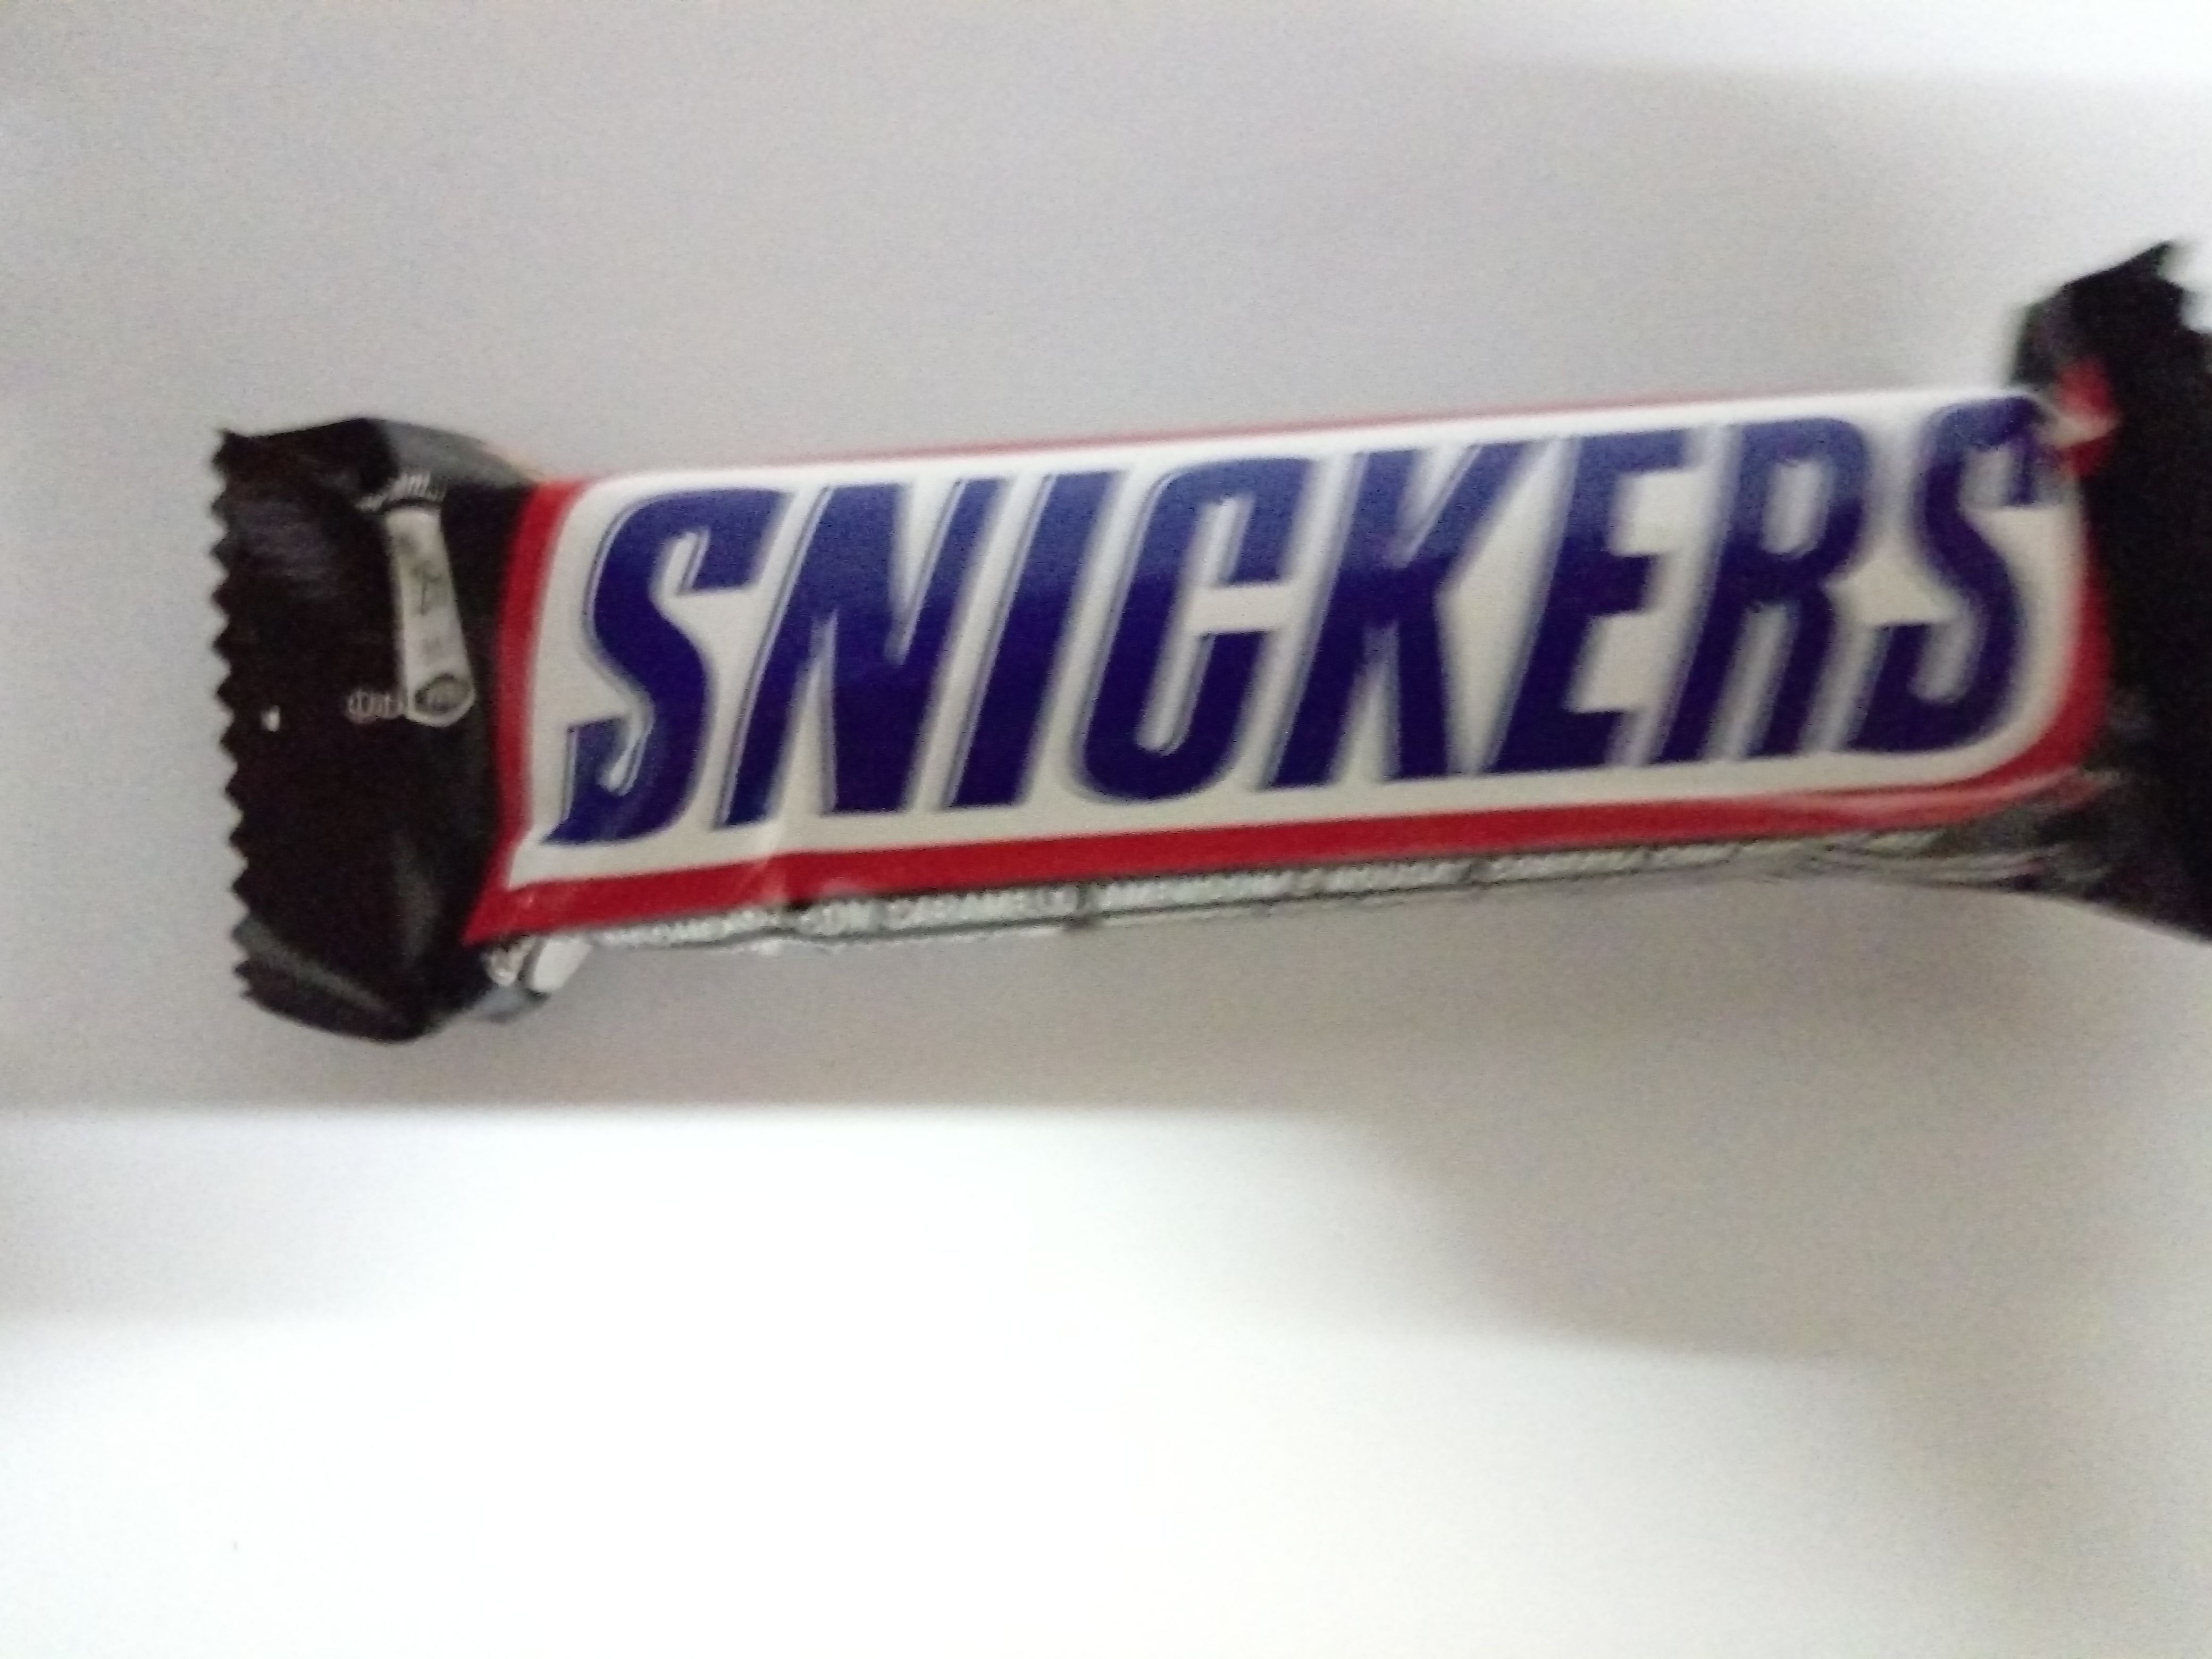snickers: (181, 209, 2212, 1079)
